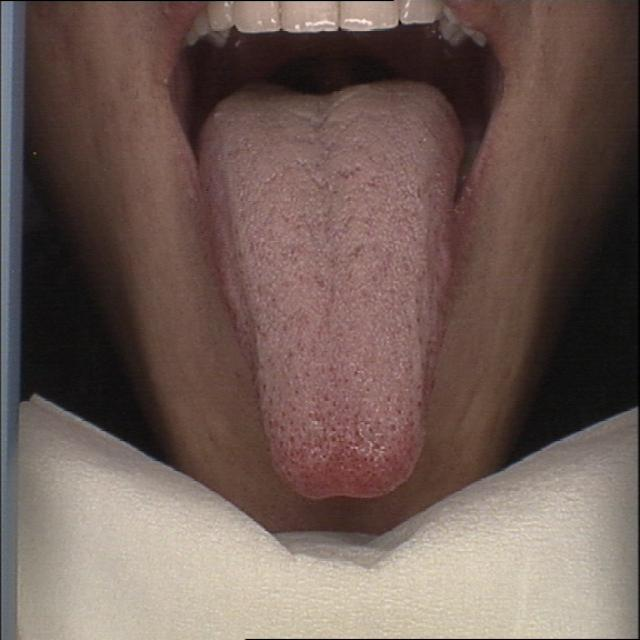tongue: (192, 76, 465, 502)
